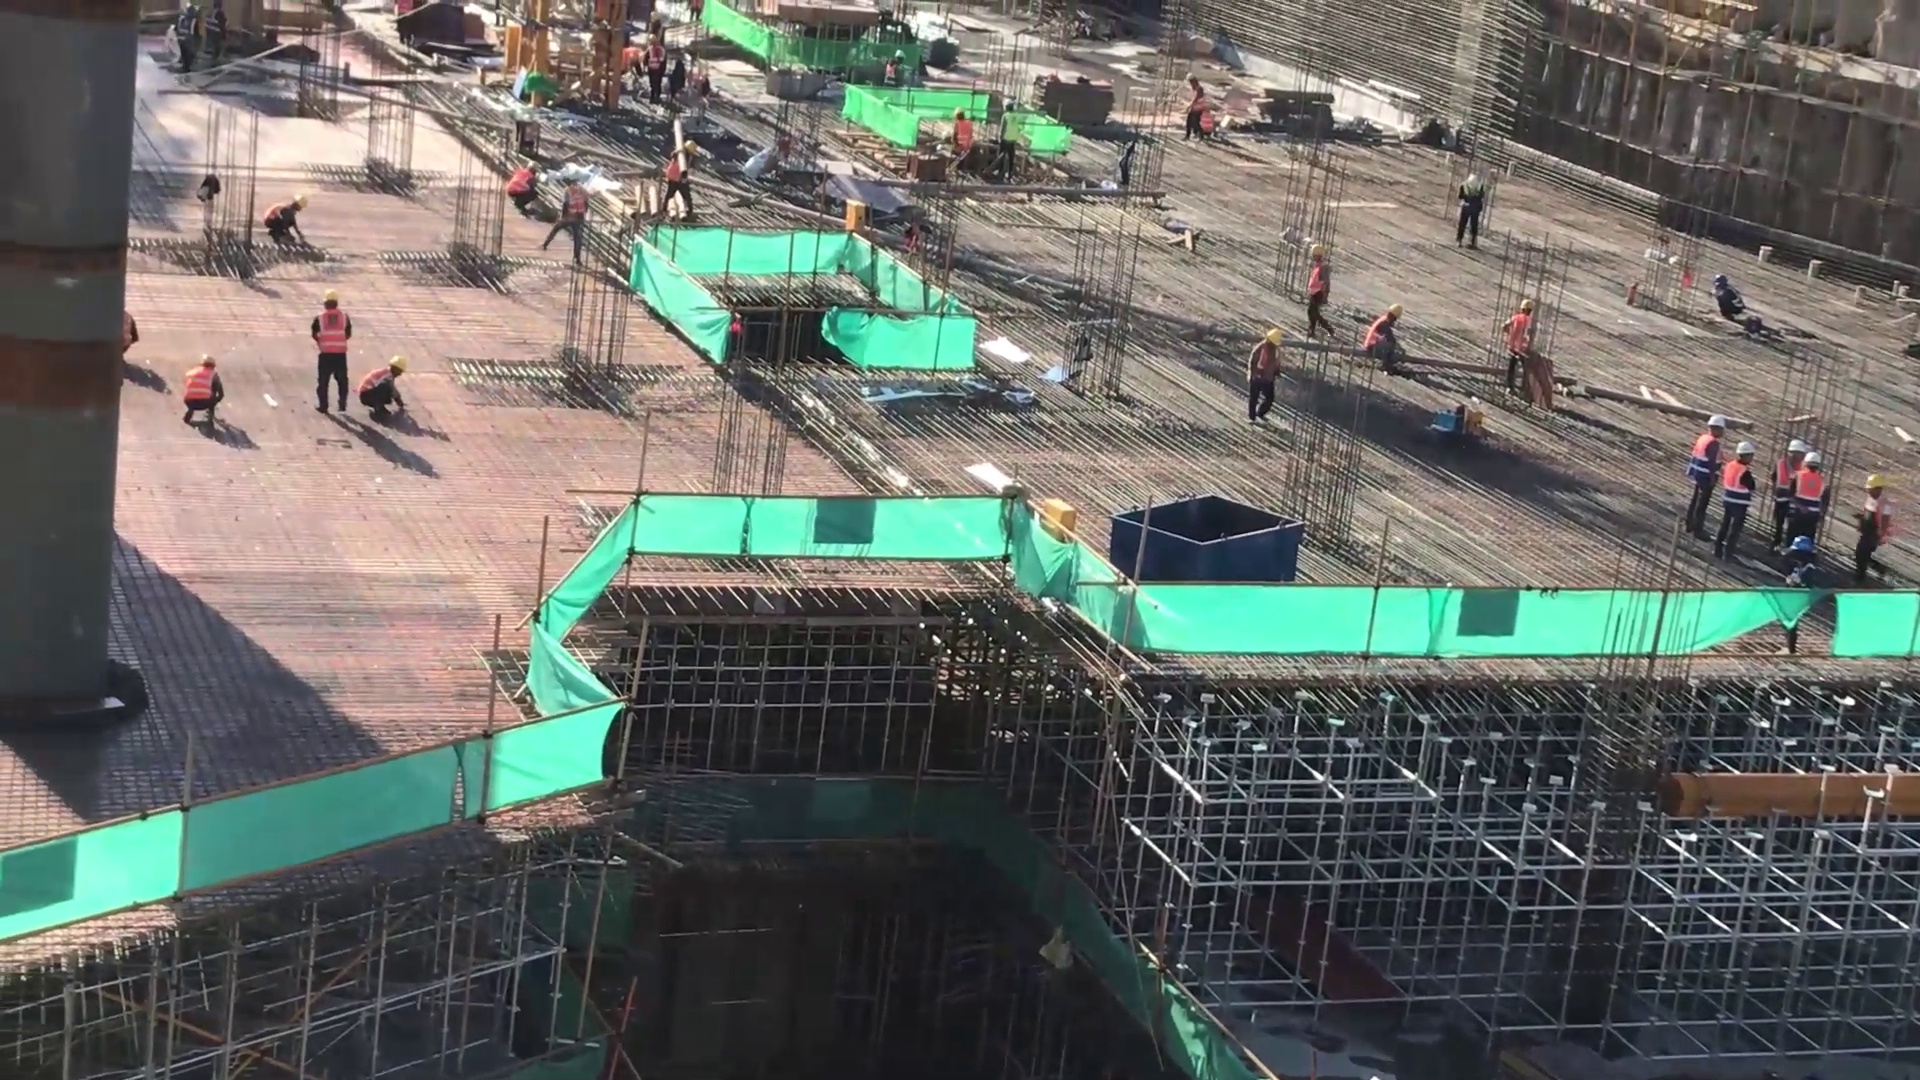helmet: (1699, 403, 1826, 468), (1510, 296, 1537, 320), (193, 349, 222, 372), (1260, 320, 1288, 340), (1386, 300, 1402, 319), (316, 294, 335, 306)
person: (1714, 436, 1760, 572), (1792, 448, 1836, 577), (310, 287, 354, 413), (1854, 469, 1899, 590), (1680, 409, 1720, 544), (1765, 432, 1805, 558), (353, 353, 411, 423), (1244, 321, 1282, 426), (551, 173, 589, 274), (1499, 299, 1537, 397), (178, 353, 226, 429), (1365, 297, 1403, 381), (257, 189, 311, 246), (1307, 239, 1339, 337), (665, 133, 695, 226), (631, 36, 673, 97), (1184, 71, 1219, 138), (1454, 178, 1483, 254), (504, 164, 539, 220), (949, 106, 978, 155)
vest: (1789, 463, 1823, 520), (359, 366, 399, 407), (312, 317, 352, 358), (184, 365, 214, 409), (1723, 457, 1749, 507), (1775, 456, 1797, 504), (1688, 436, 1715, 475)
